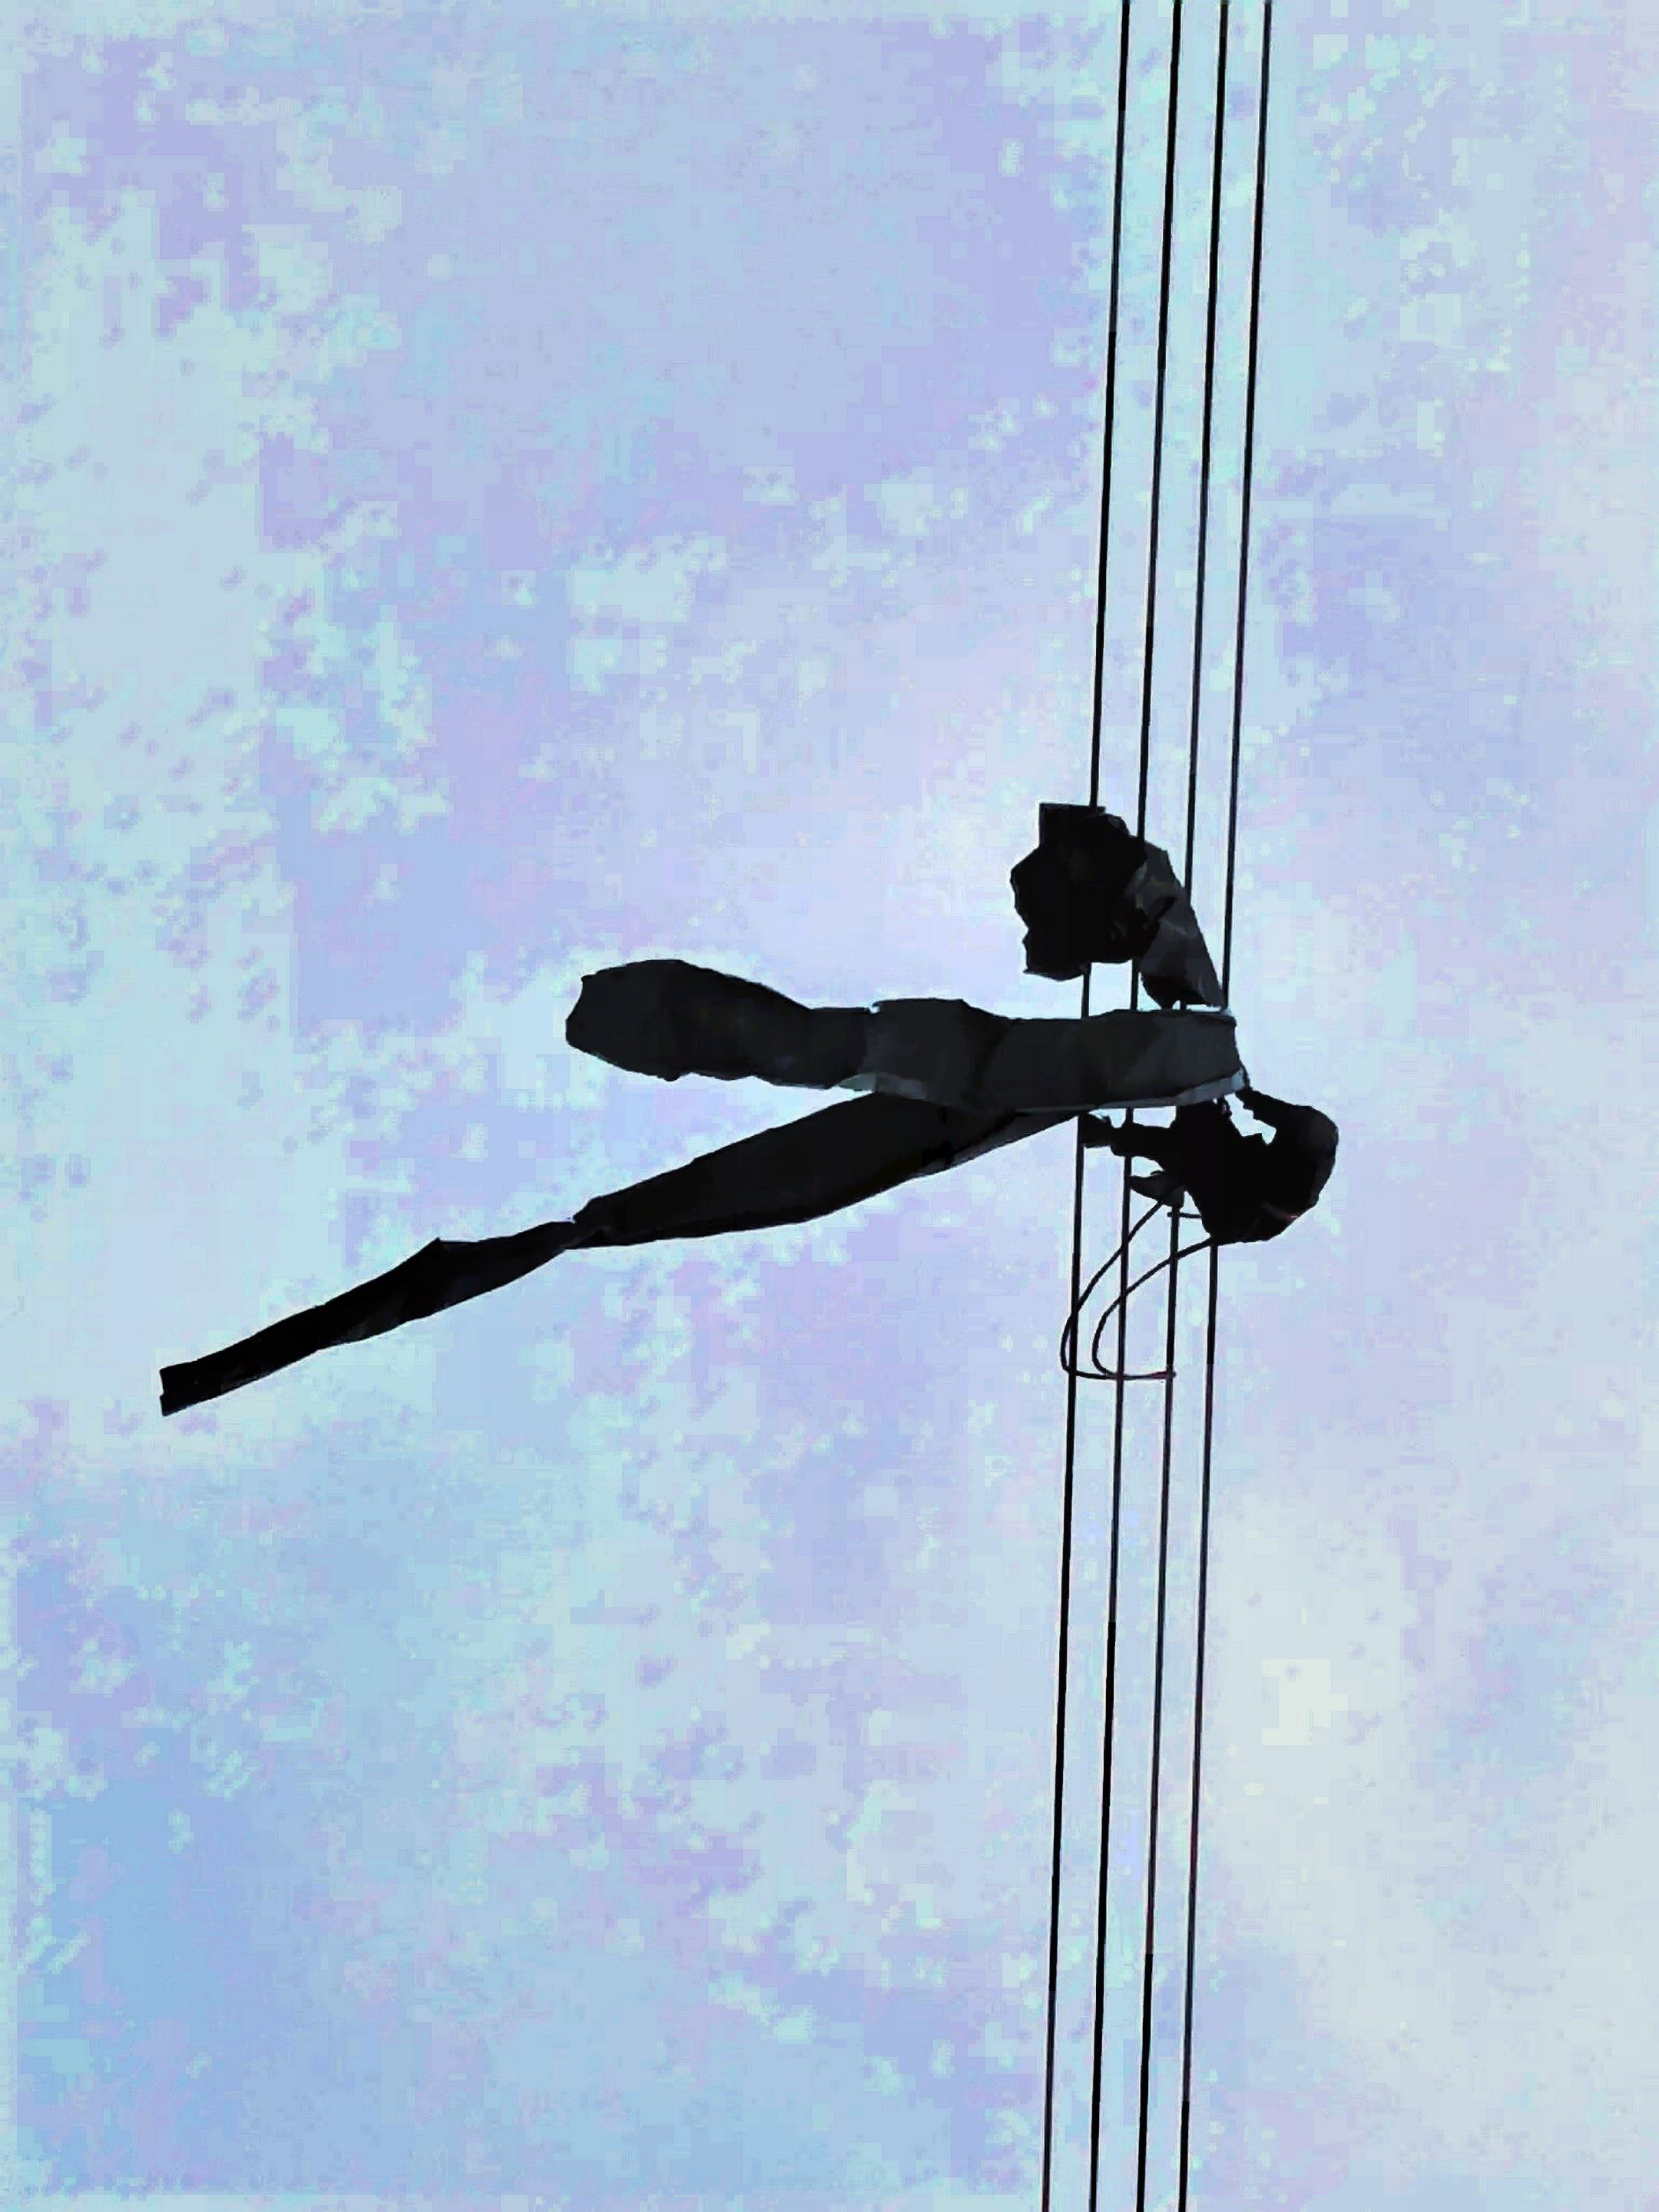wire foreign body: (162, 791, 1251, 1442)
